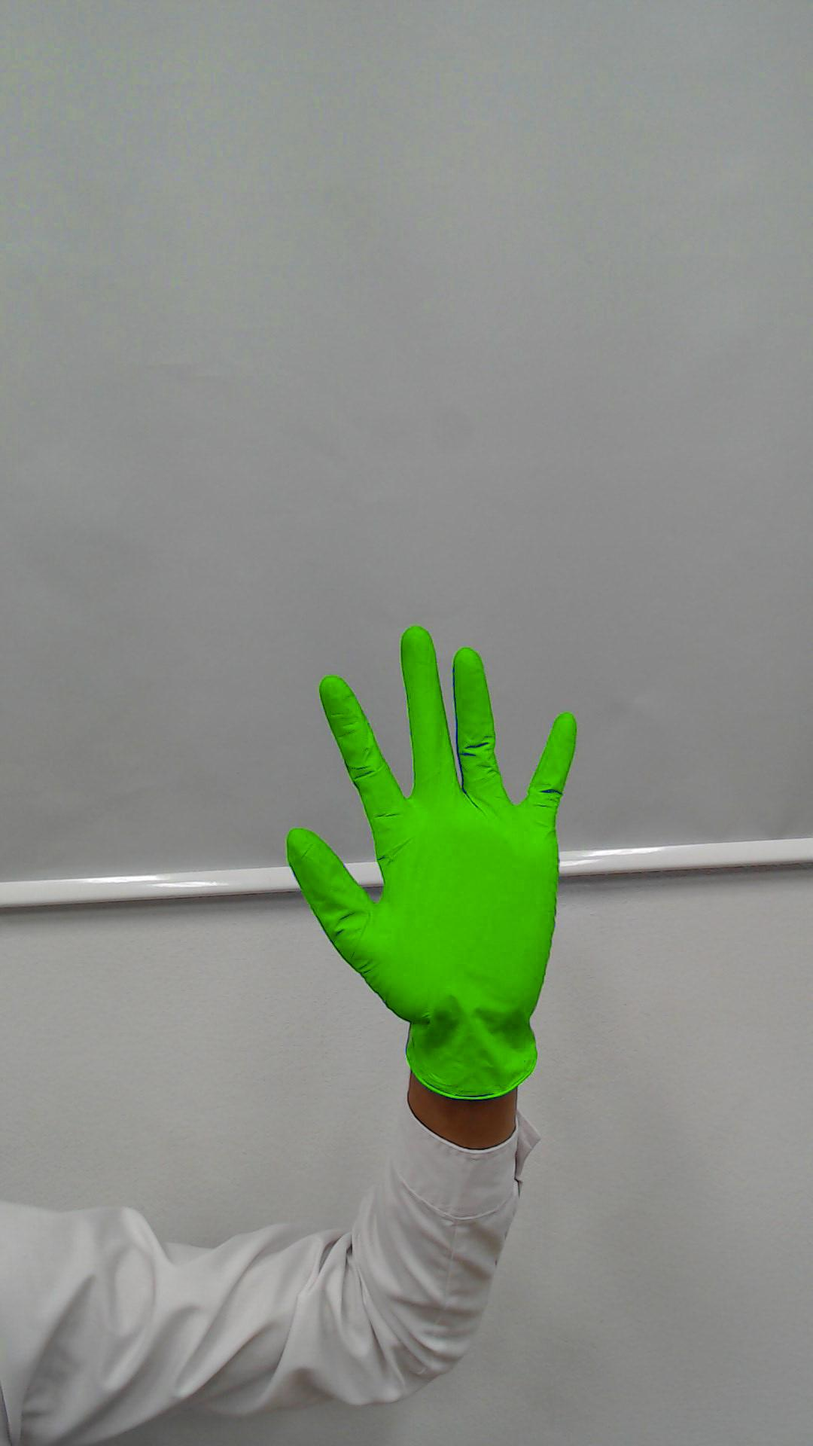gloves: (269, 606, 588, 1028)
